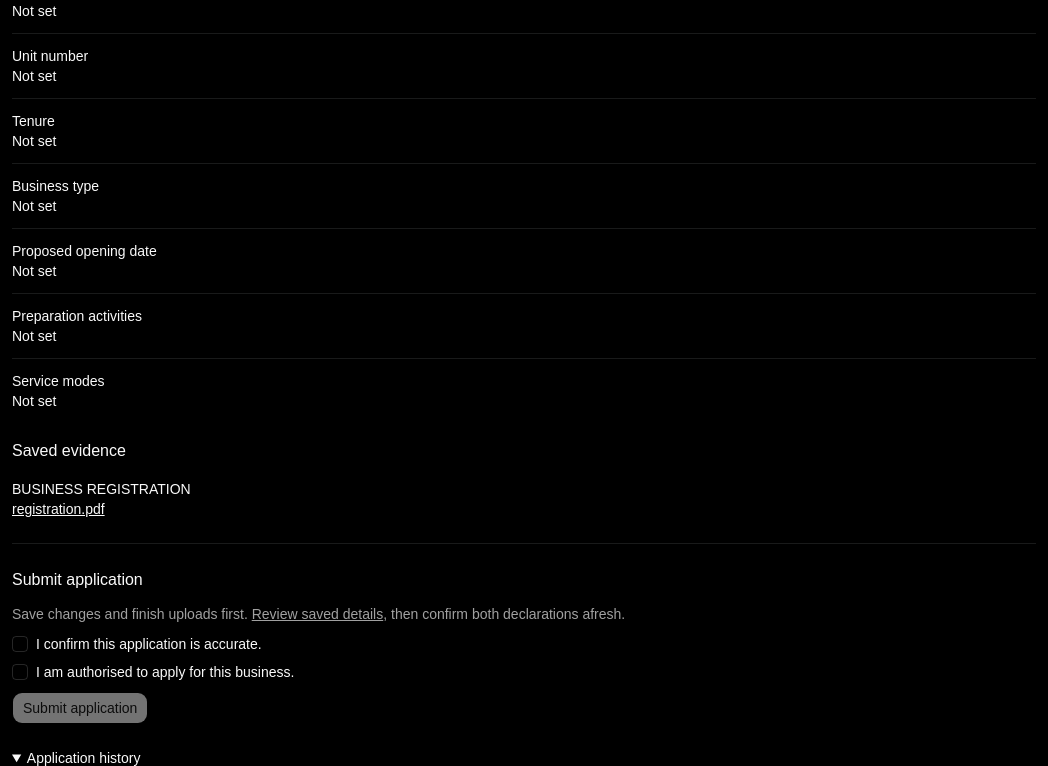
Scenario: operator cannot submit a saved revision that has not been reviewed
(page scrolled)
Expected: the button "Submit application" is shown, [12,692,148,724]
Click the checkbox named "I confirm this application is accurate." next to "I confirm this application is accurate.".
click(20, 644)  # box [12,636,28,652]
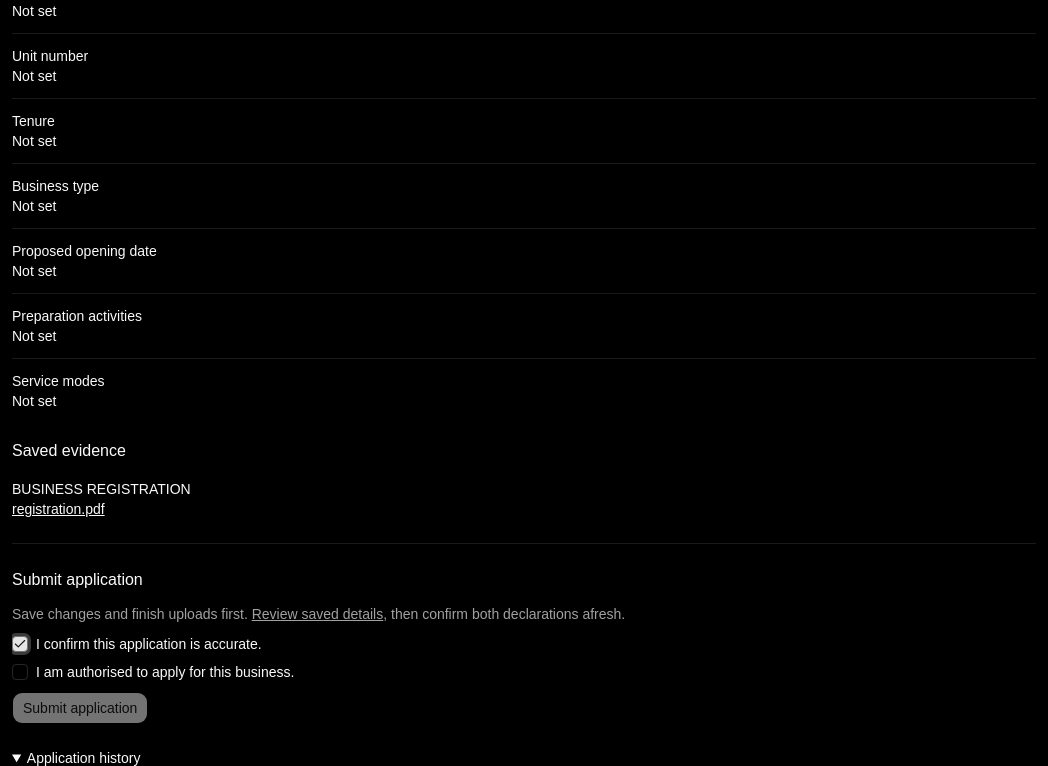
Click the 2nd checkbox named "I am authorised to apply for this business.".
click(20, 672)  # box [12,664,28,680]
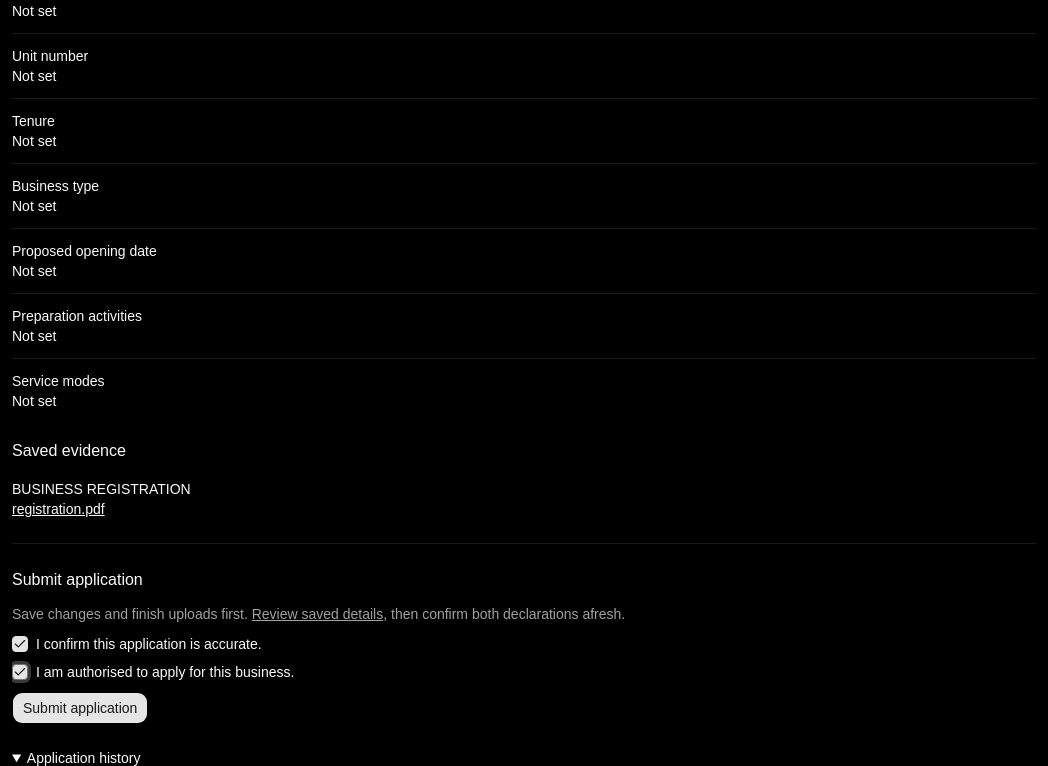
Click the button "Submit application".
click(80, 708)  # box [12,692,148,724]
(page scrolled)
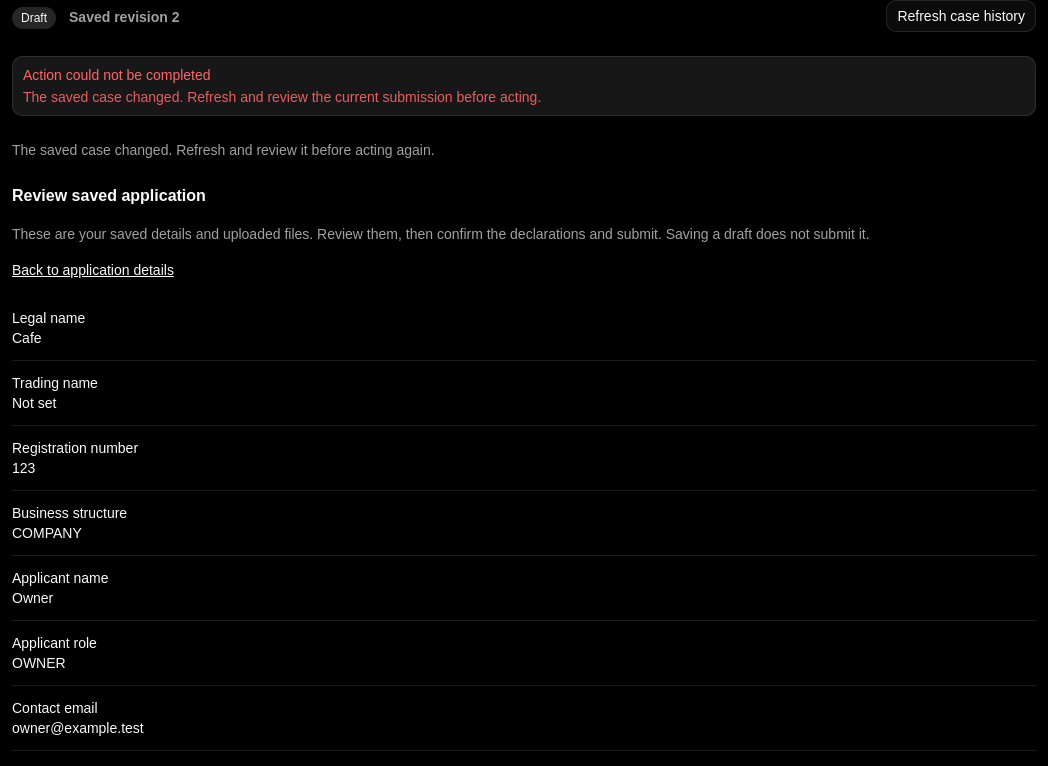
Expected: the message that starts with "Action could not be completed" shows "Refresh and review the current submission", [23,89,541,105]
